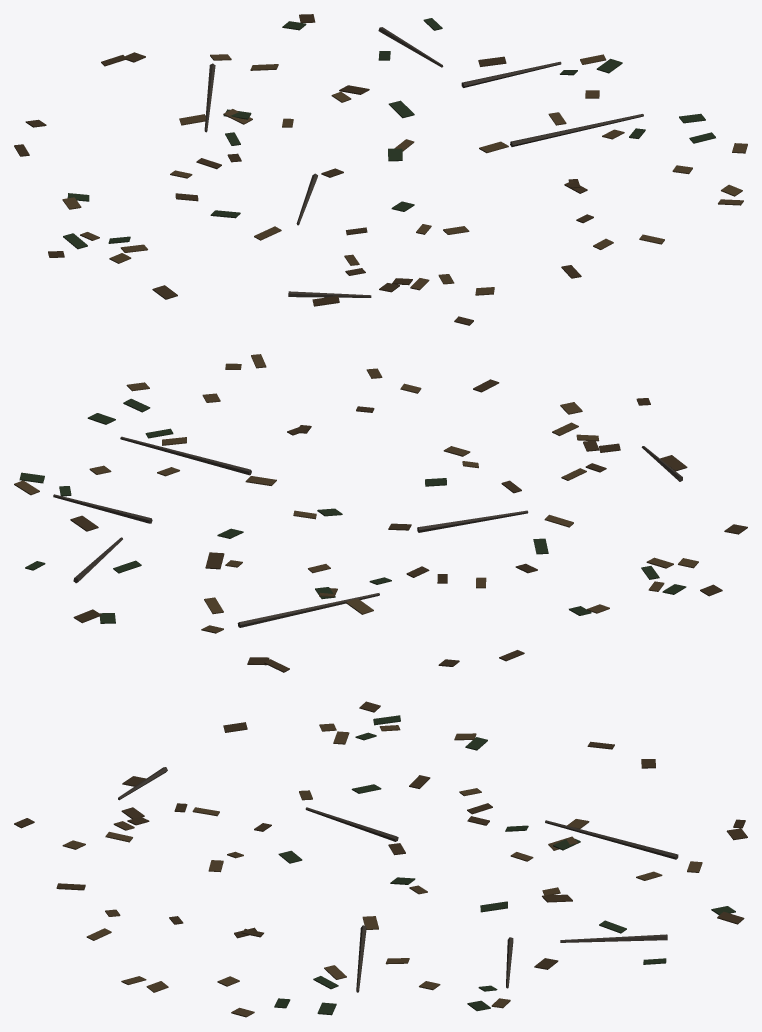
The model's file is SM_ENV_FolhasChao.fbx.
3 views of the same model, one above another, from view 1: azimuth 30°, elevation 25°; view 2: azimuth 150°, elevation 25°; view 3: azimuth 270°, elevation 25° (orthographic). The views are drawn at different scales.
Visible parts, largest first — view 1: SM_ENV_FolhasChao; view 2: SM_ENV_FolhasChao; view 3: SM_ENV_FolhasChao.
Boxes of the visible parts, x1,y1,x2,y2 form: SM_ENV_FolhasChao: (14, 14, 747, 325); SM_ENV_FolhasChao: (14, 354, 747, 672); SM_ENV_FolhasChao: (14, 701, 747, 1017).
Bounding box in the file's own units: 2.4 × 0.0252 × 2.36.
